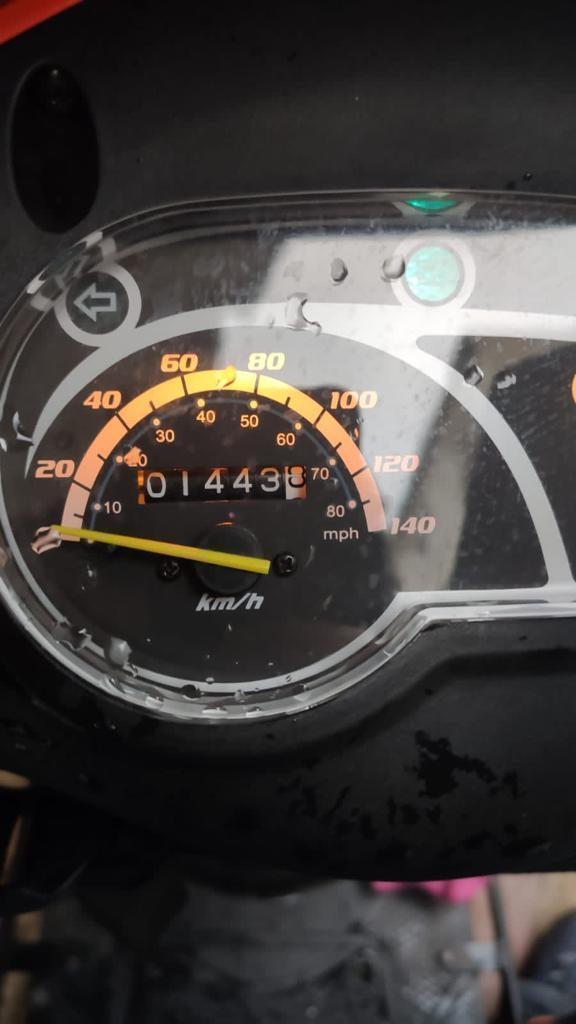0: (145, 470, 166, 499)
1: (179, 469, 192, 498)
3: (257, 465, 281, 494)
4: (202, 467, 225, 495), (230, 466, 253, 494)
8: (287, 463, 306, 489)
odometer: (131, 461, 312, 506)
